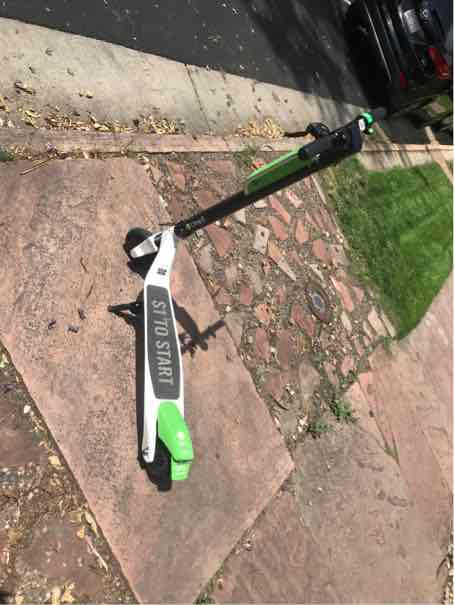scooter: (118, 85, 358, 500)
